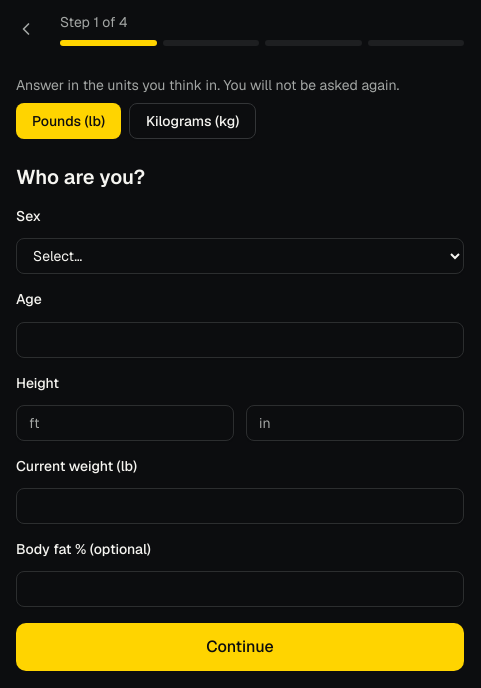
it: OnboardingPage in metric › keeps the questionnaire in the chosen unit when the preference write fails
The image size is (481, 688).
Click the button "Kilograms (kg)".
click(193, 121)  # box [129,103,256,139]
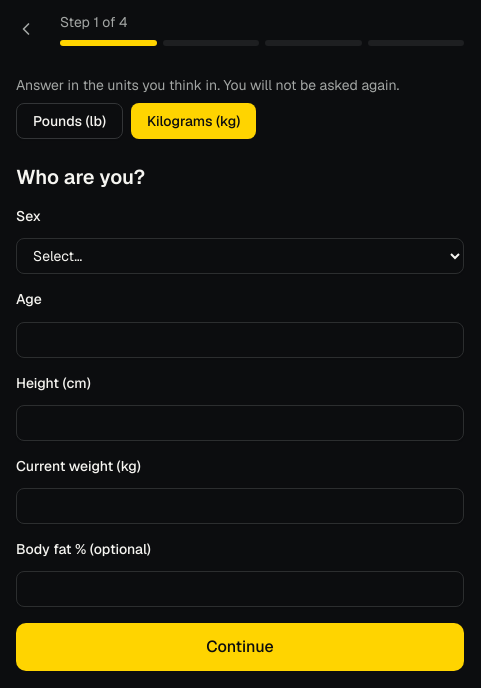
Expected: the number field labelled "Current weight (kg)" is shown, [16,488,464,524]
Expected: the number field labelled "Height (cm)" is shown, [16,405,464,441]
